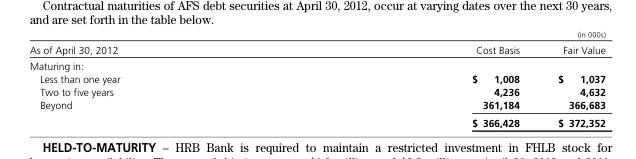table: (28, 29, 604, 128)
table column: (28, 29, 295, 128), (295, 29, 538, 128), (538, 29, 604, 128)
table column header: (28, 29, 604, 57)
table projected row header: (28, 57, 604, 72)
table row: (28, 29, 604, 57), (28, 97, 604, 113), (28, 57, 604, 72), (28, 113, 604, 128), (28, 72, 604, 85), (28, 85, 604, 97)
